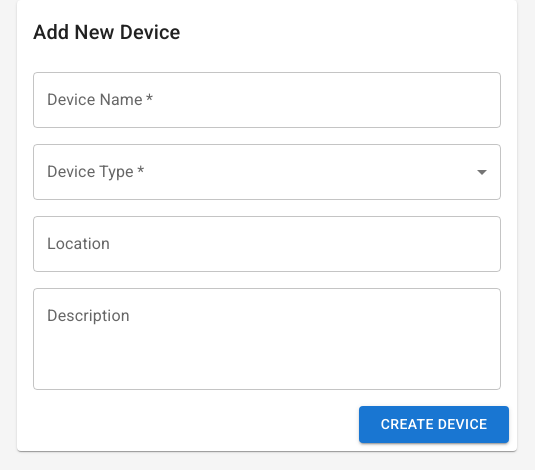
it: AddDeviceForm Component › should have predefined device type options
The width and height of the screenshot is (535, 470).
Step 1. Click the dropdown named "device type" → {"x": 267, "y": 172}, box [33,144,501,200]
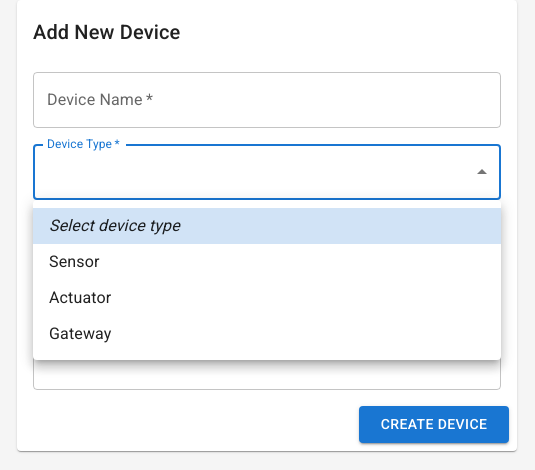
Check: the option "Sensor" is shown, box [49,252,100,271]
Check: the option "Actuator" is shown, box [49,288,111,307]
Check: the option "Gateway" is shown, box [49,324,112,343]
